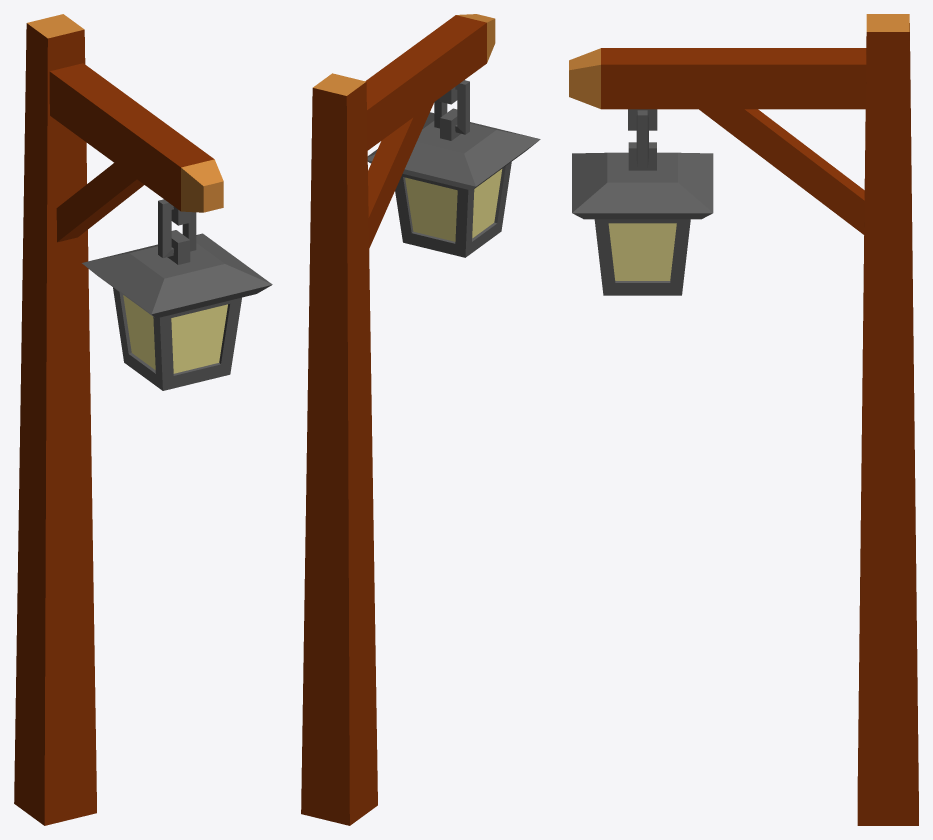
The model's file is Lantern_01.fbx.
The picture shows the model from 3 angles, left to right: view 1: azimuth 30°, elevation 25°; view 2: azimuth 150°, elevation 25°; view 3: azimuth 270°, elevation 25°; orthographic projection. The views are drawn at different scales.
Visible parts, largest first — view 1: Lantern_01; view 2: Lantern_01; view 3: Lantern_01.
Part boxes in pixels (x1,y1,x2,y2): Lantern_01: (14, 14, 272, 825); Lantern_01: (301, 14, 540, 825); Lantern_01: (569, 14, 918, 825).
Size of the model in its own units: 57.6 by 355 by 142.
Materials: 1 (1 with a texture image).
